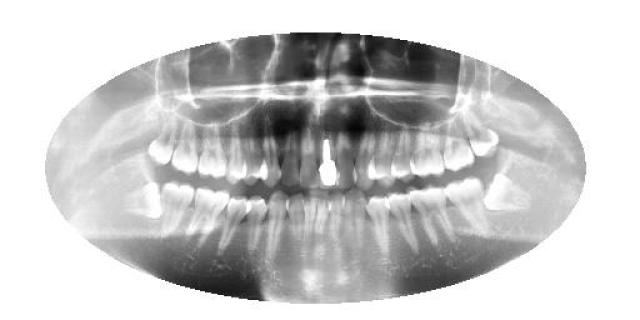Implant: (318, 135, 338, 191)
Restorations: (481, 171, 531, 215), (124, 180, 162, 221)
